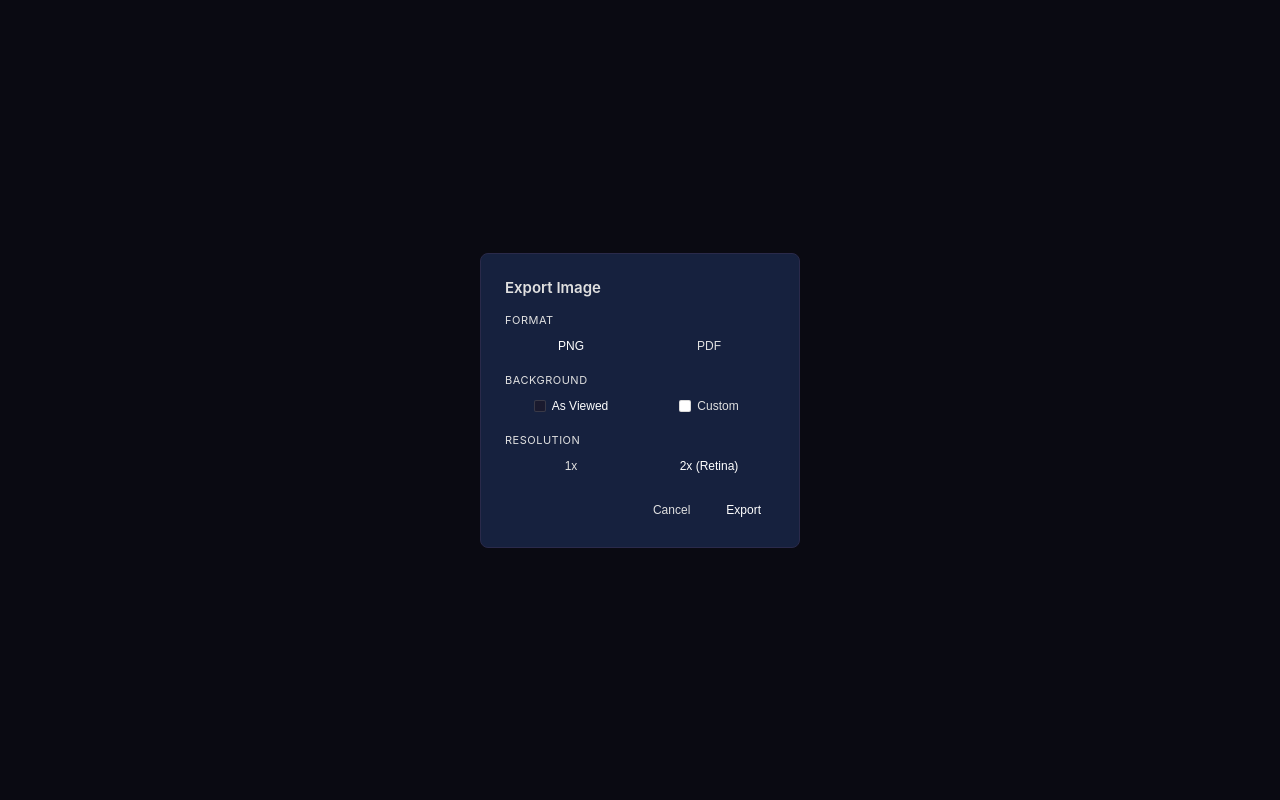
Scenario: ExportImageModal › shows color picker when Custom background selected
The width and height of the screenshot is (1280, 800).
Click the button "Custom" at (709, 406), box [643,392,775,418]
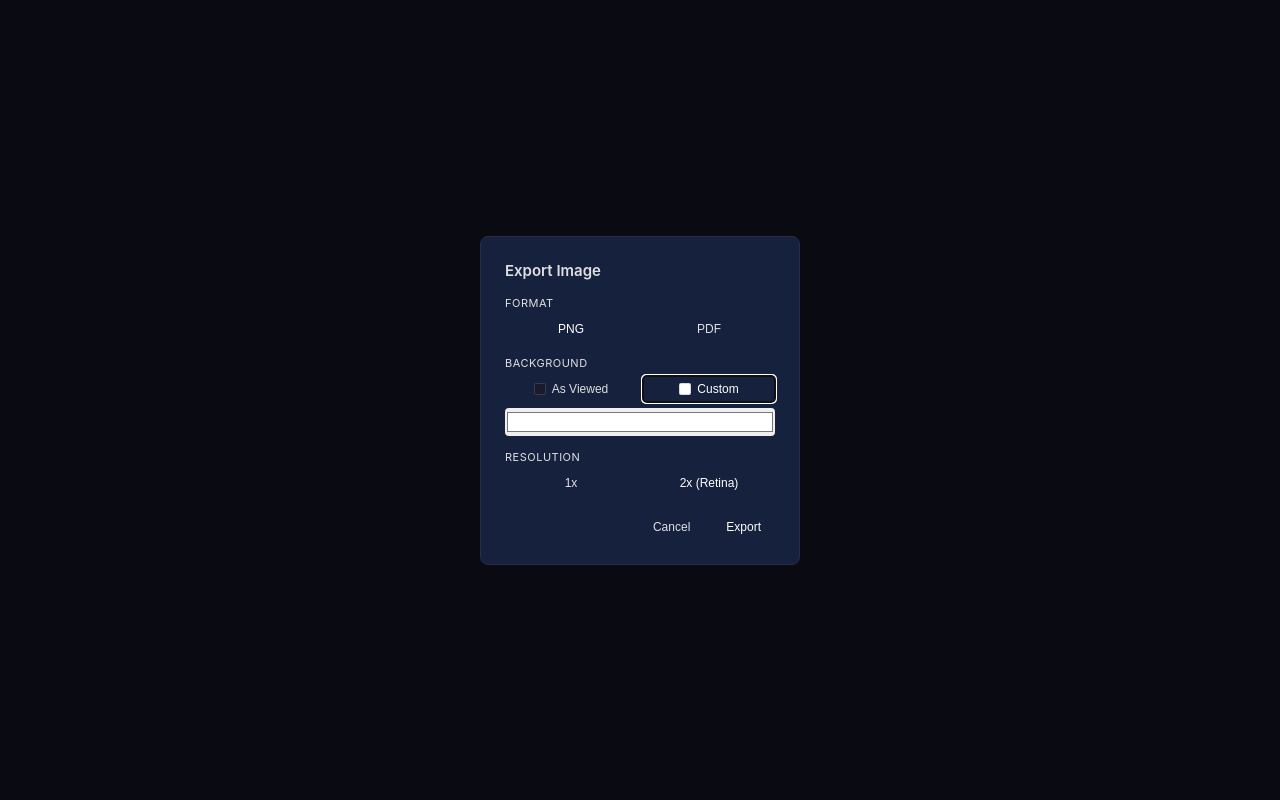
Expected: the colour field is shown, [505,408,775,436]
